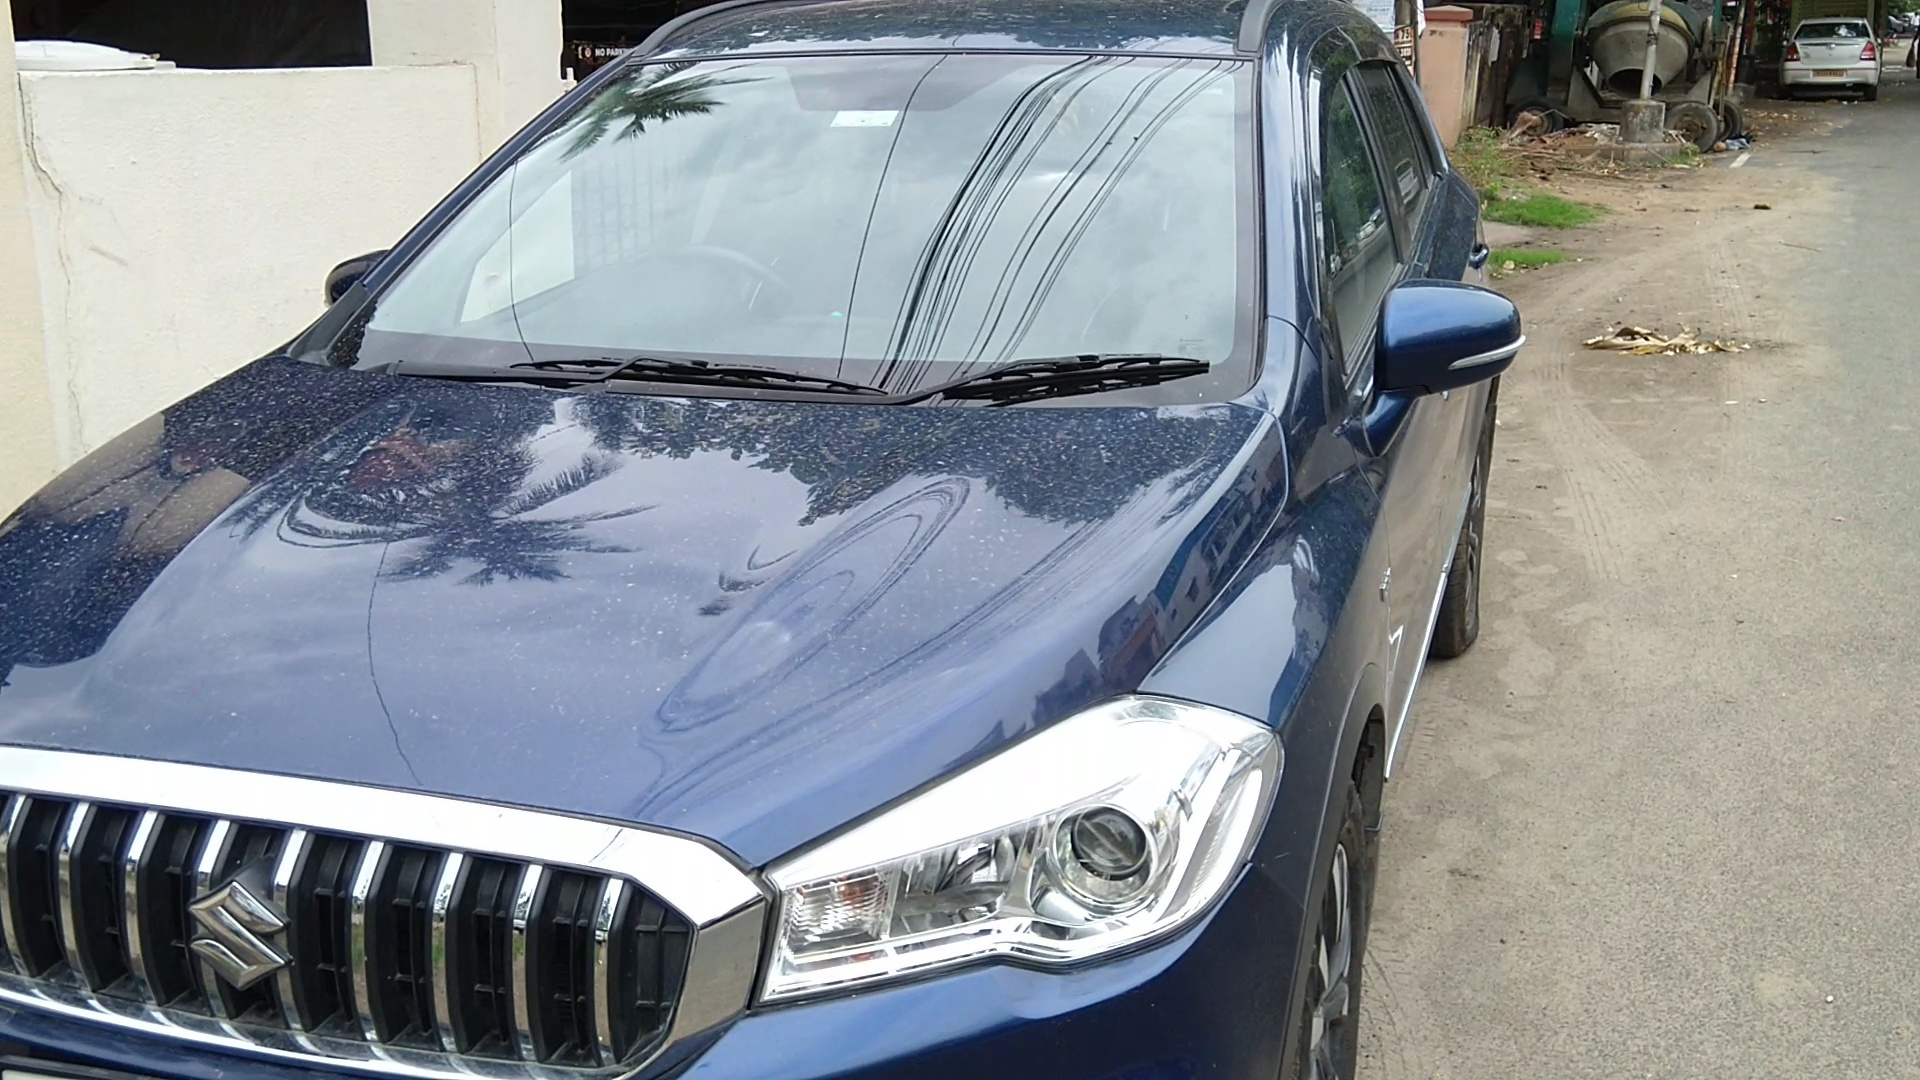front_grill: (1, 723, 773, 1080)
headlamp: (775, 666, 1288, 1013)
ovr_mirror: (1375, 276, 1532, 411)
